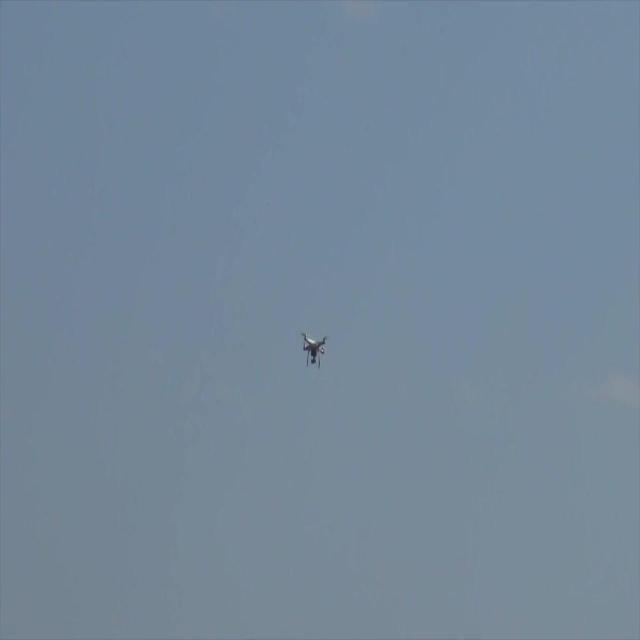drone: (301, 329, 328, 373)
